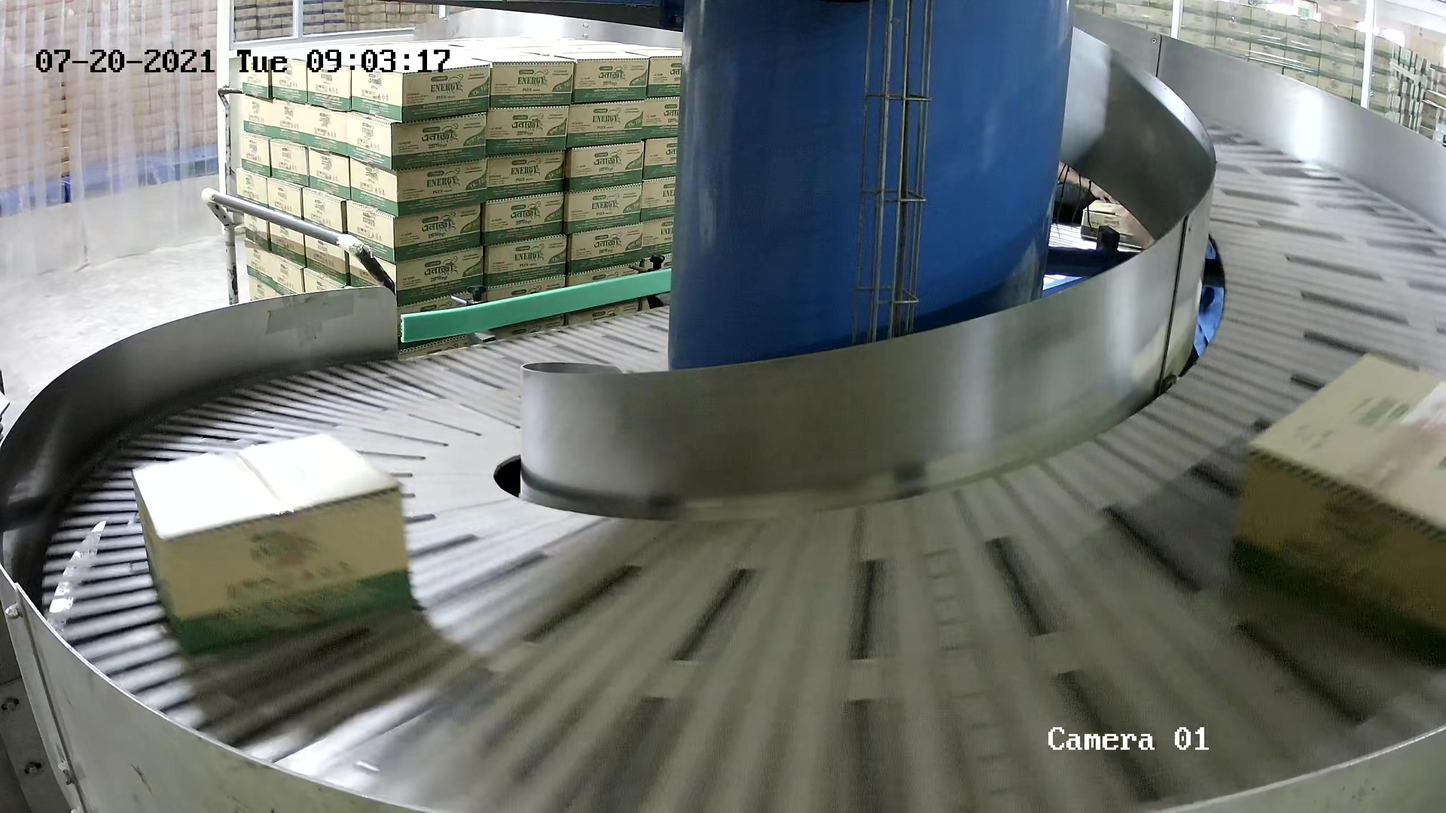Box: (1225, 353, 1446, 677), (132, 431, 416, 660)
